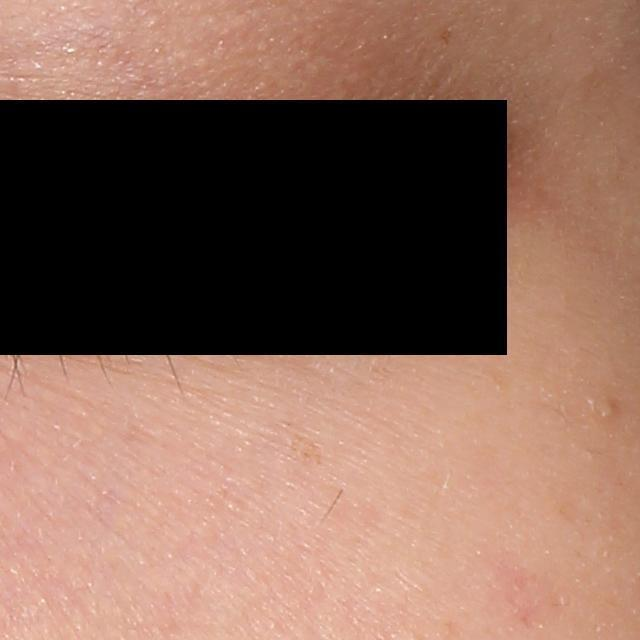comedo: (591, 395, 620, 424)
melasma: (437, 29, 455, 47)
